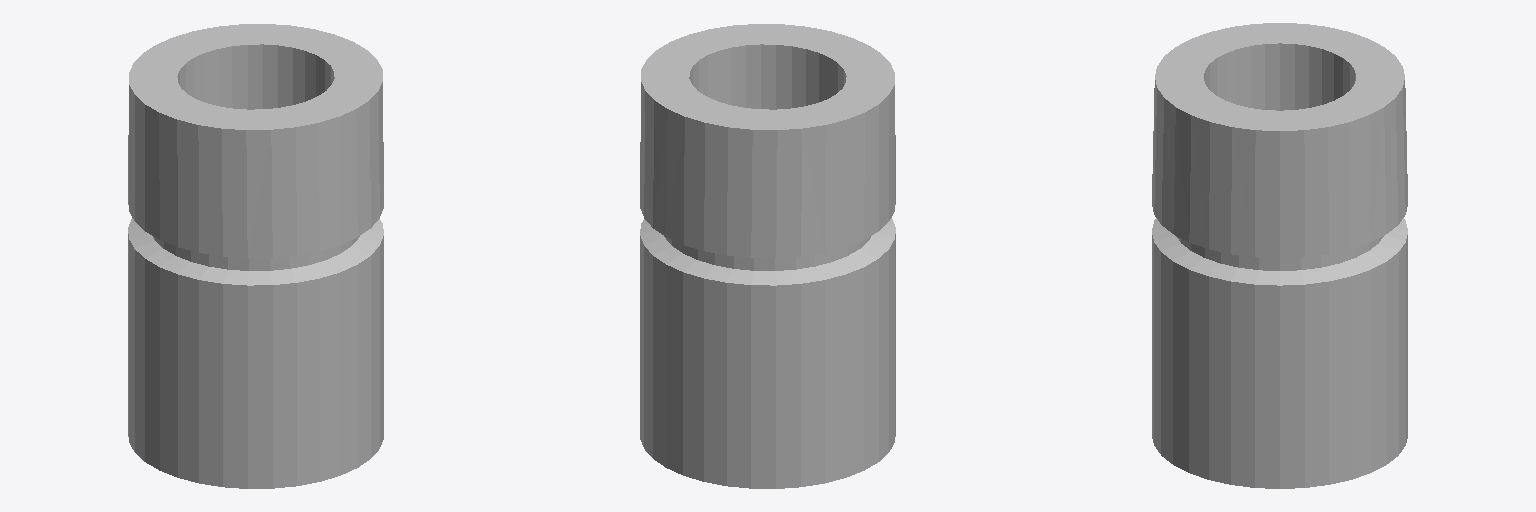
Rendered from Light_Round_Short_Hollow.obj.
3 views of the same model, side by side, from view 1: azimuth 30°, elevation 25°; view 2: azimuth 150°, elevation 25°; view 3: azimuth 270°, elevation 25° (orthographic).
Parts seen in each view (by area): view 1: Light_Round_Short_Hollow; view 2: Light_Round_Short_Hollow; view 3: Light_Round_Short_Hollow.
Boxes of the visible parts, x1=… form: Light_Round_Short_Hollow: x1=128, y1=24, x2=383, y2=488; Light_Round_Short_Hollow: x1=640, y1=24, x2=895, y2=488; Light_Round_Short_Hollow: x1=1152, y1=23, x2=1407, y2=488.
Size of the model in its own units: 0.65 by 1 by 0.65.